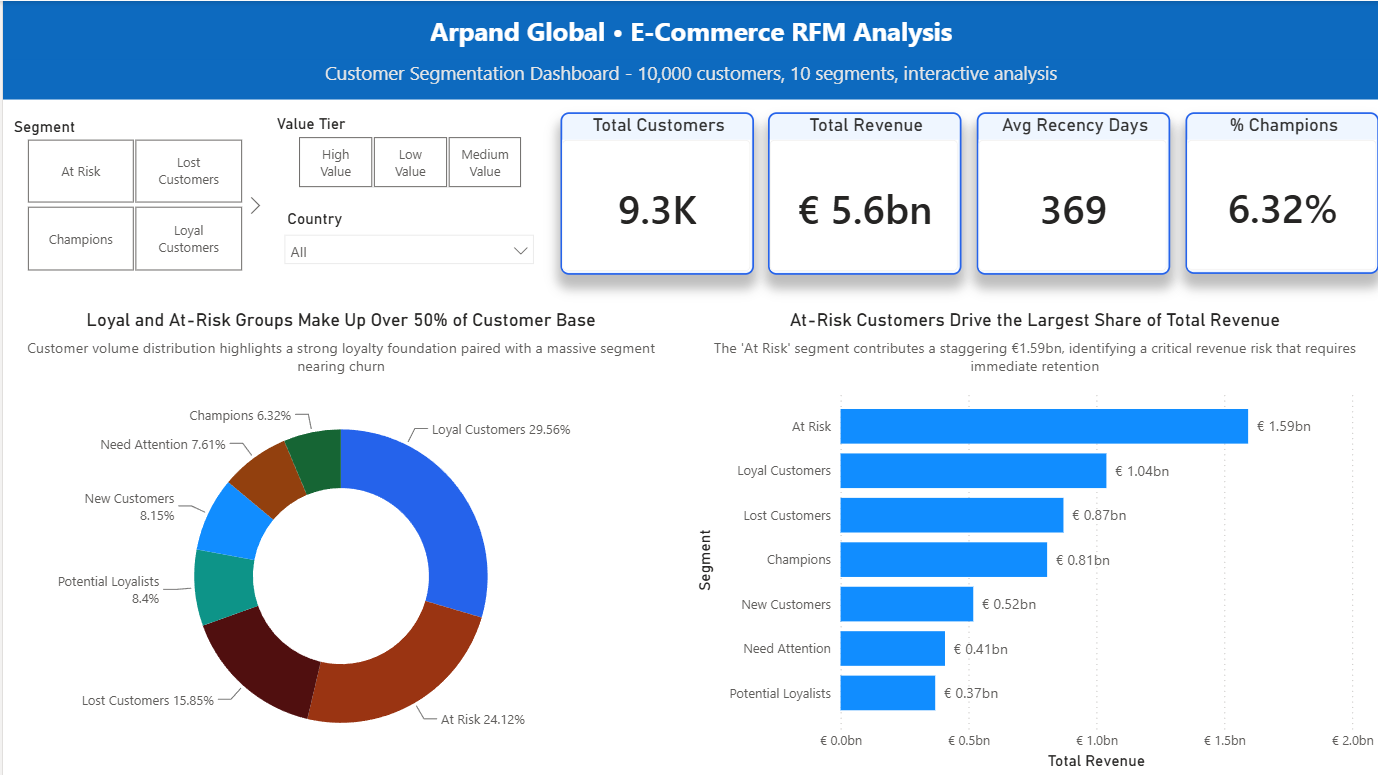

Layout of this report page (visuals, bound fields, positions):
{"tool":"powerbi","page":{"name":"Executive Overview","canvas":[1280,720],"ordinal":0},"visuals":[{"type":"shape","title":"Arpand Global • E-Commerce  RFM Analysis","box":[0,0,1280.3,54.9],"z":0},{"type":"shape","box":[0,54.9,1280.3,37],"z":1000},{"type":"cardVisual","title":"Total Customers","fields":{"Data":["rfm_segmented_final.Total Customers"]},"box":[518.7,102.9,179.8,150.9],"z":2000},{"type":"cardVisual","title":"Total Revenue","fields":{"Data":["rfm_segmented_final.Total Revenue"]},"box":[712.2,102.9,179.8,150.9],"z":3000},{"type":"cardVisual","title":"Avg Recency Days","fields":{"Data":["rfm_segmented_final.Avg Recency Days"]},"box":[905.7,102.9,179.8,150.9],"z":4000},{"type":"cardVisual","title":"% Champions","fields":{"Data":["rfm_segmented_final.% Champion"]},"box":[1099.6,102.9,180,150],"z":5000},{"type":"donutChart","title":"Loyal and At-Risk Groups Make Up Over 50% of Customer Base","fields":{"Category":["rfm_segmented_final.Segment"],"Y":["rfm_segmented_final.Total Customers"]},"box":[0,281.4,629.1,438.4],"z":6000},{"type":"clusteredBarChart","title":"At-Risk Customers Drive the Largest Share of Total Revenue","fields":{"Y":["rfm_segmented_final.Total Revenue"],"Category":["rfm_segmented_final.Segment"]},"box":[639.5,281.4,640.7,438.4],"z":7000},{"type":"slicer","fields":{"Values":["rfm_segmented_final.Segment"]},"box":[0,105.8,243,148.8],"z":8000},{"type":"slicer","fields":{"Values":["rfm_segmented_final.Country"]},"box":[254.7,191.9,246.5,62.8],"z":9000},{"type":"slicer","title":"Value Tier","fields":{"Values":["rfm_segmented_final.Value_Tier"]},"box":[254.7,103.5,246.5,76.7],"z":10000}]}

Visuals, with their boxes in screenshot pixels (x1, y1, x2, y2), scaled from the page's 1280x720 canvas onto the 1378x775 screenshot:
"Arpand Global • E-Commerce  RFM Analysis" shape: <box>0,0,1377,59</box>
shape: <box>0,59,1377,99</box>
"Total Customers" cardVisual: <box>558,111,752,273</box>
"Total Revenue" cardVisual: <box>767,111,960,273</box>
"Avg Recency Days" cardVisual: <box>975,111,1169,273</box>
"% Champions" cardVisual: <box>1184,111,1377,272</box>
"Loyal and At-Risk Groups Make Up Over 50% of Customer Base" donutChart: <box>0,303,677,774</box>
"At-Risk Customers Drive the Largest Share of Total Revenue" clusteredBarChart: <box>688,303,1377,774</box>
slicer - rfm_segmented_final.Segment: <box>0,114,262,274</box>
slicer - rfm_segmented_final.Country: <box>274,207,540,274</box>
"Value Tier" slicer: <box>274,111,540,194</box>
